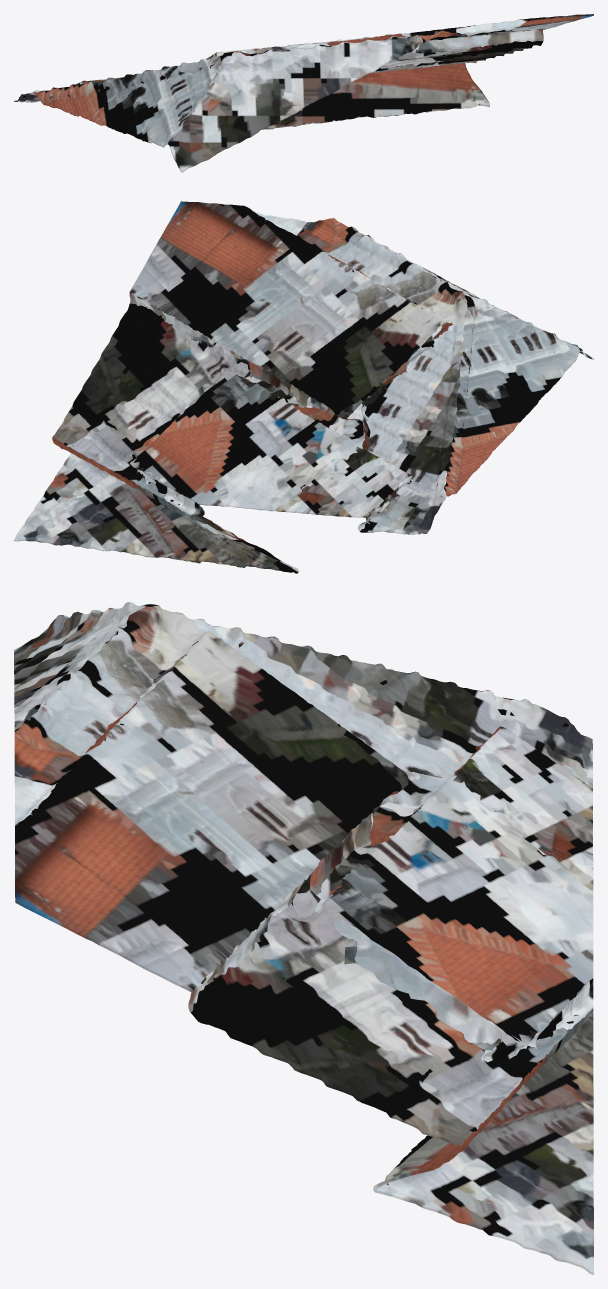
3 views of the same model, one above another, from view 1: azimuth 30°, elevation 25°; view 2: azimuth 150°, elevation 25°; view 3: azimuth 270°, elevation 25° (orthographic). The views are drawn at different scales.
Parts seen in each view (by area): view 1: node_67; view 2: node_67; view 3: node_67.
Boxes of the visible parts, x1=… form: node_67: x1=14, y1=14, x2=593, y2=172; node_67: x1=14, y1=201, x2=593, y2=573; node_67: x1=14, y1=602, x2=593, y2=1274.
Bounding box in the file's own units: 7.83 × 4.31 × 5.51.
Materials: 1 (1 with a texture image).
